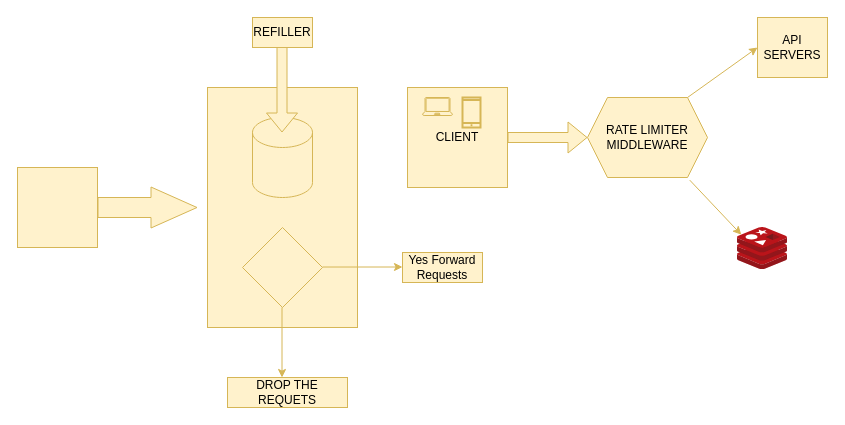
The diagram is 845 pixels wide and 425 high, and some of its shapes have lost their labels. Each missing label, with the centre of its shape:
BUCKET: pixel 282 157
ENOUGH TOKENS: pixel 282 267
REQUESTS: pixel 57 207
